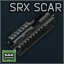FN SCAR PWS SRX rail extension: (0, 0, 64, 64)
